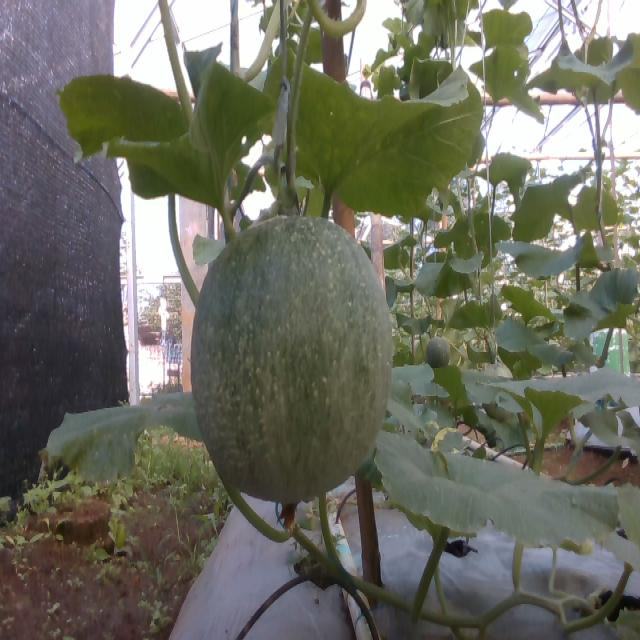melon: (192, 216, 393, 503)
